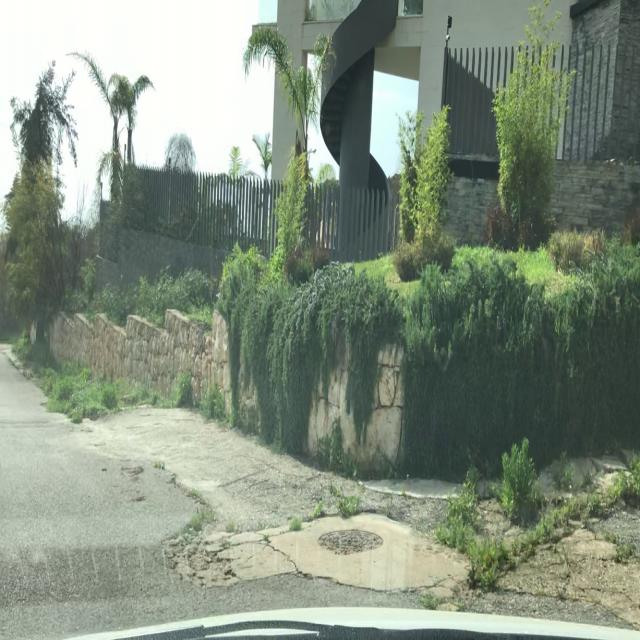Pothole: (160, 518, 247, 594)
